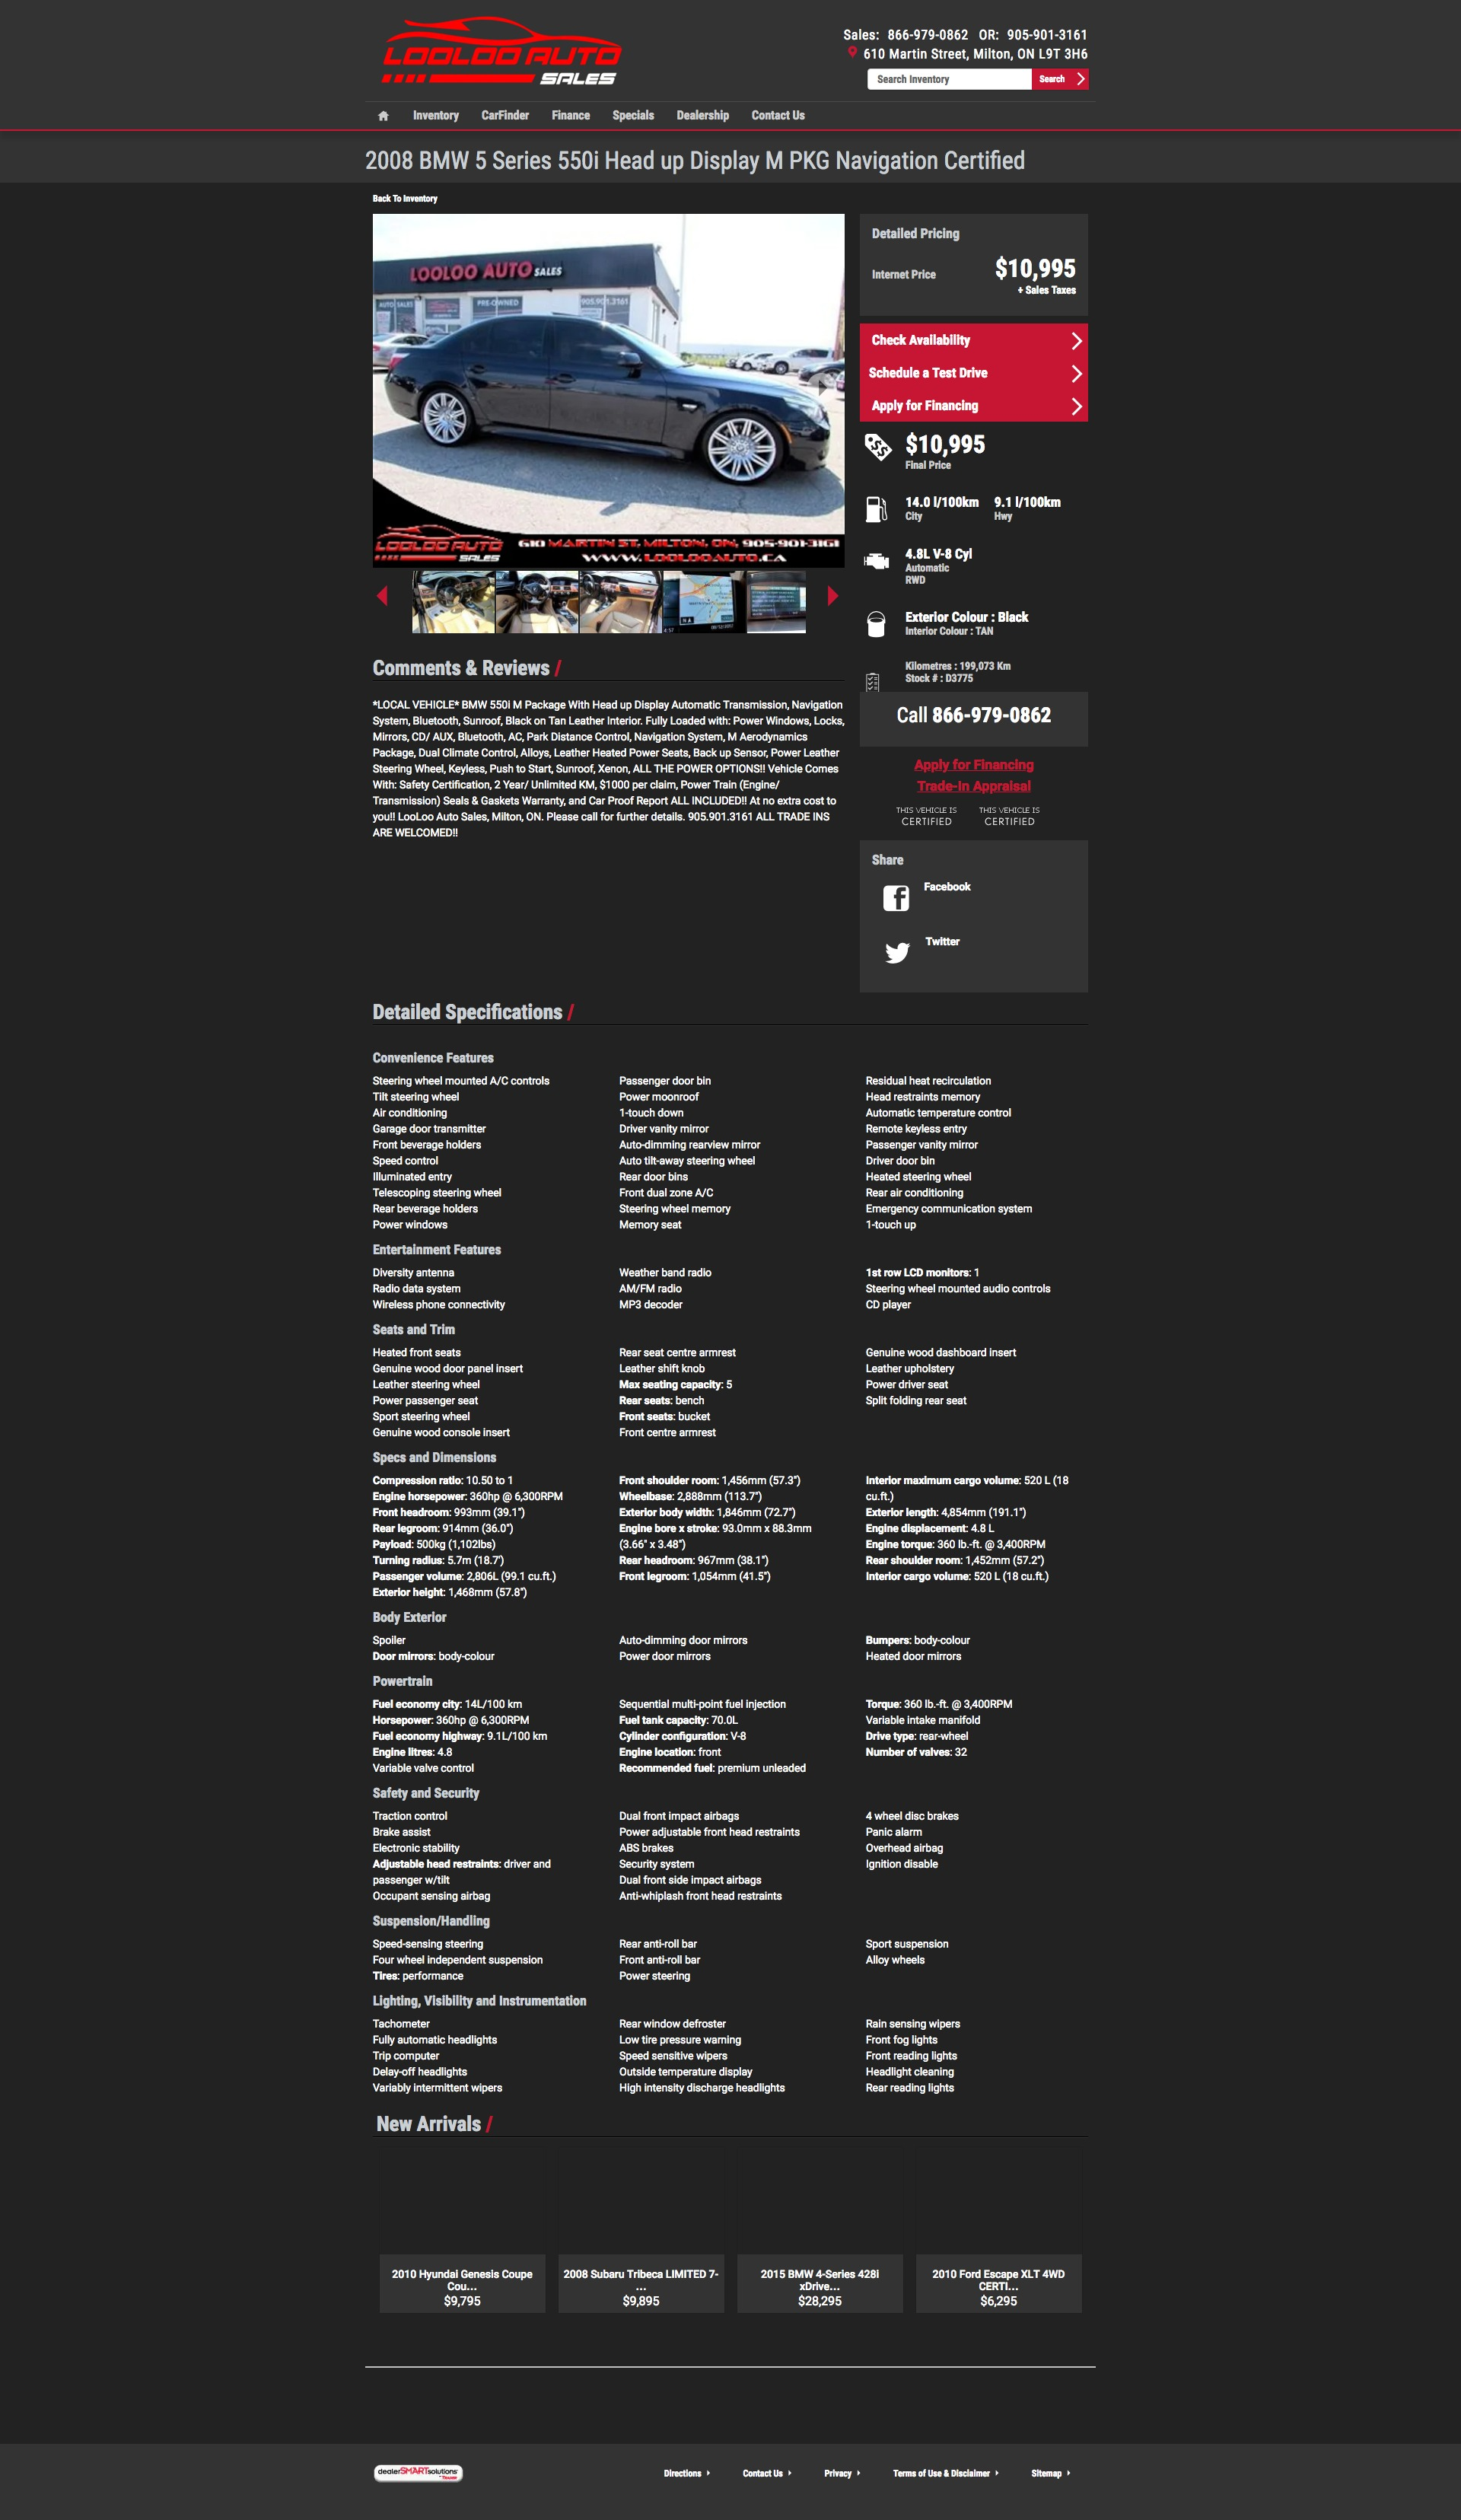car: (828, 586, 840, 609)
